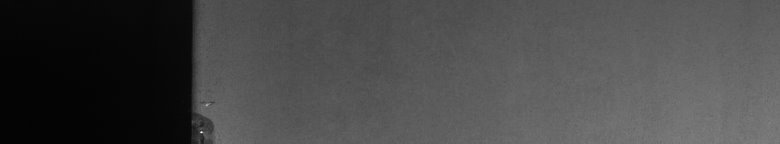hb: (200, 92, 220, 136)
